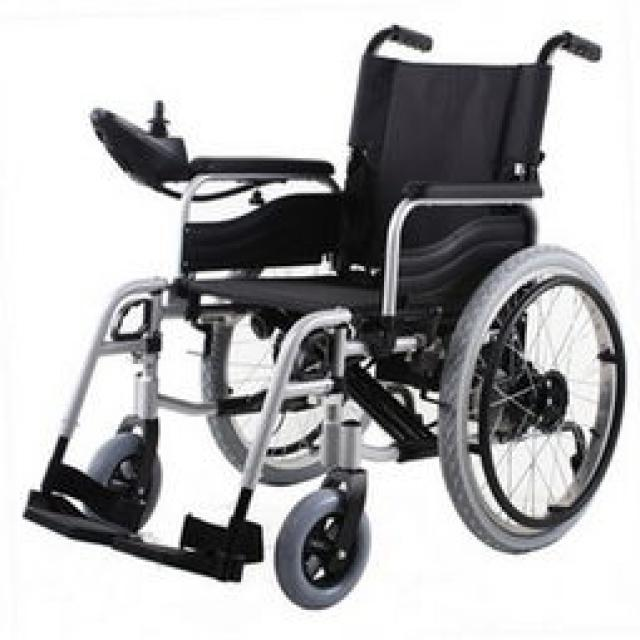wheelchair: (18, 22, 632, 612)
